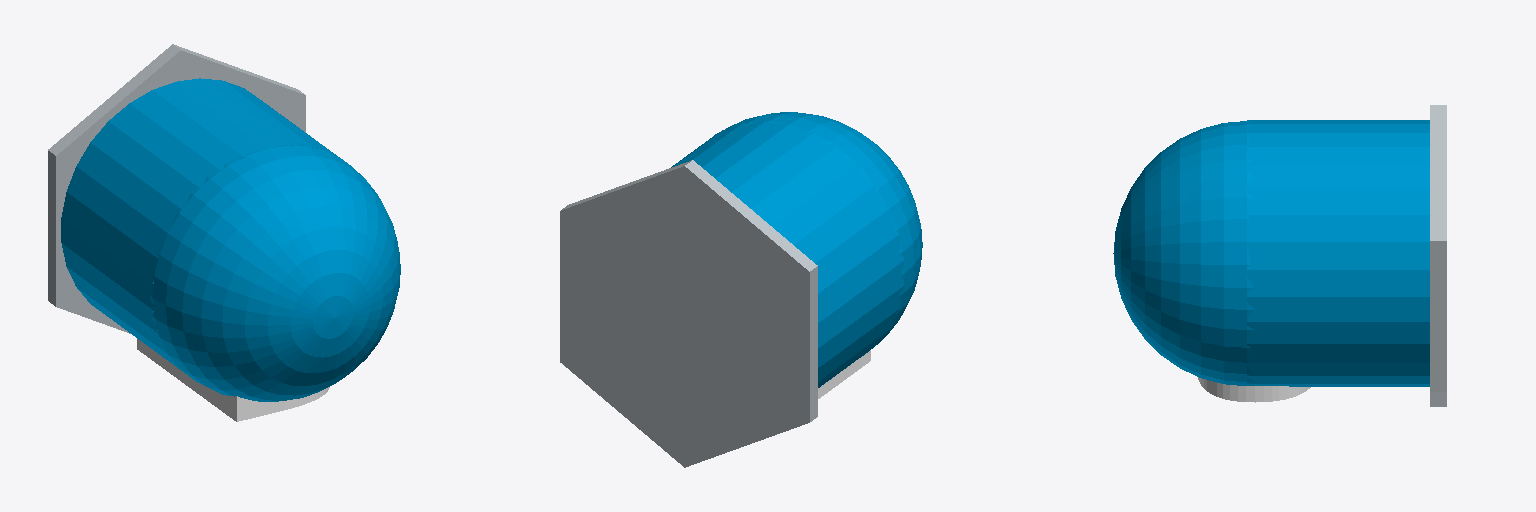
Rendered from tinker.obj.
3 renders of one model, left to right at view 1: azimuth 30°, elevation 25°; view 2: azimuth 150°, elevation 25°; view 3: azimuth 270°, elevation 25°, orthographic.
Visible parts, largest first — view 1: obj_0; view 2: obj_0; view 3: obj_0.
Boxes of the visible parts, x1=… form: obj_0: x1=48, y1=44, x2=400, y2=421; obj_0: x1=560, y1=112, x2=922, y2=467; obj_0: x1=1113, y1=105, x2=1446, y2=406.
Size of the model in its own units: 17.32 by 20 by 20.